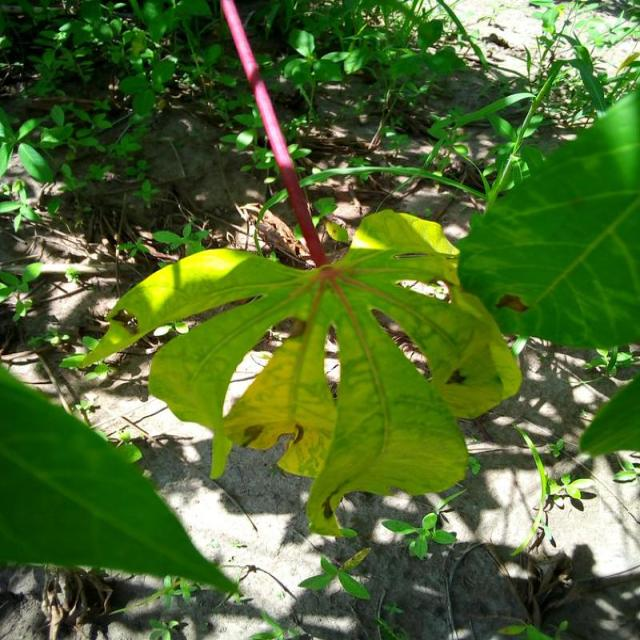cassava leaf: (74, 207, 524, 536), (0, 362, 242, 598), (454, 83, 638, 351)
